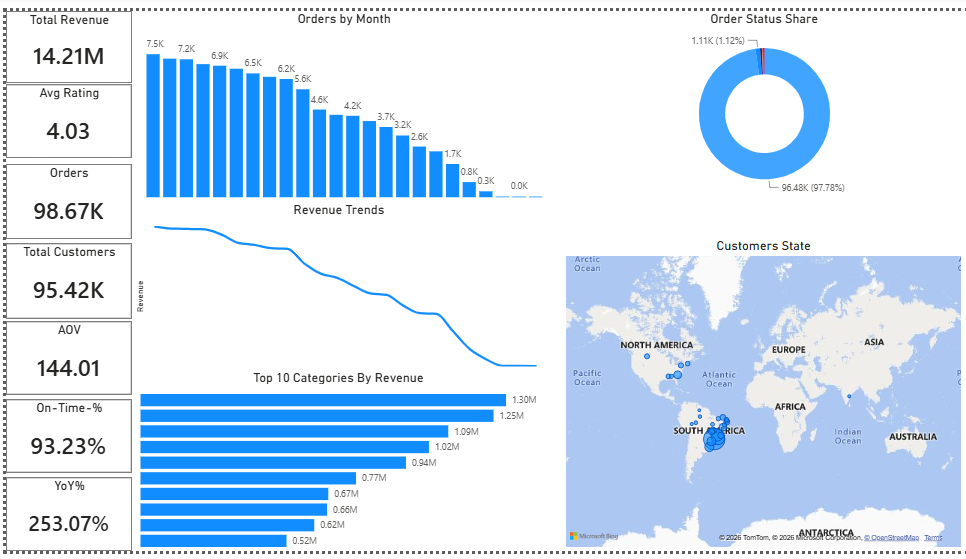

What the dashboard file says about the page in this screenshot:
{"tool":"powerbi","page":{"name":"Overview","canvas":[1280,720],"ordinal":0},"visuals":[{"type":"cardVisual","title":"AOV","fields":{"Data":["public bi_fact_sales.AOV"]},"box":[0,414.8,167.6,97.6],"z":0},{"type":"cardVisual","title":"On-Time-%","fields":{"Data":["public bi_fact_sales.On-time %"]},"box":[0,519,167.6,97.6],"z":1000},{"type":"cardVisual","title":"YoY%","fields":{"Data":["public bi_fact_sales.YoY %"]},"box":[0,622,168,98],"z":2000},{"type":"cardVisual","title":"Total Customers","fields":{"Data":["public bi_fact_sales.Customers"]},"box":[0,310,167.6,100],"z":3000},{"type":"cardVisual","title":"Orders","fields":{"Data":["public bi_fact_sales.Orders"]},"box":[0,203.1,167.6,100],"z":4000},{"type":"cardVisual","title":"Total Revenue","fields":{"Data":["public bi_fact_sales.Revenue"]},"box":[0,0,168,96],"z":5000},{"type":"cardVisual","title":"Avg Rating","fields":{"Data":["public bi_fact_sales.Avg Rating"]},"box":[0,98.3,167.6,97.9],"z":6000},{"type":"lineChart","title":"Revenue Trends","fields":{"Y":["public bi_fact_sales.Revenue"],"Category":["DimDate.Year-Month"]},"box":[168.3,253.3,551.7,225],"z":7000},{"type":"clusteredColumnChart","title":"Orders by Month","fields":{"Category":["DimDate.Year-Month"],"Y":["public bi_fact_sales.Orders"]},"box":[182,0,538,254],"z":8000},{"type":"barChart","title":"Top 10 Categories By Revenue","fields":{"Y":["public bi_fact_sales.Revenue"],"Category":["public bi_fact_sales.category"]},"box":[173.3,478.3,538.3,241.7],"z":9000},{"type":"map","title":"Customers State","fields":{"Category":["public bi_fact_sales.customer_state"],"Size":["public bi_fact_sales.Orders"]},"box":[742.7,302.4,536.7,417.6],"z":10000},{"type":"donutChart","title":"Order Status Share","fields":{"Y":["public bi_fact_sales.Orders"],"Category":["public bi_fact_sales.order_status"]},"box":[742,0,538,254],"z":11000}]}

Visuals, with their boxes in screenshot pixels (x1, y1, x2, y2), scaled from the page's 1280x720 canvas onto the 966x559 screenshot:
"AOV" cardVisual: bbox=[0, 322, 126, 398]
"On-Time-%" cardVisual: bbox=[0, 403, 126, 479]
"YoY%" cardVisual: bbox=[0, 483, 127, 558]
"Total Customers" cardVisual: bbox=[0, 241, 126, 318]
"Orders" cardVisual: bbox=[0, 158, 126, 235]
"Total Revenue" cardVisual: bbox=[0, 0, 127, 75]
"Avg Rating" cardVisual: bbox=[0, 76, 126, 152]
"Revenue Trends" lineChart: bbox=[127, 197, 543, 371]
"Orders by Month" clusteredColumnChart: bbox=[137, 0, 543, 197]
"Top 10 Categories By Revenue" barChart: bbox=[131, 371, 537, 558]
"Customers State" map: bbox=[561, 235, 965, 558]
"Order Status Share" donutChart: bbox=[560, 0, 965, 197]
